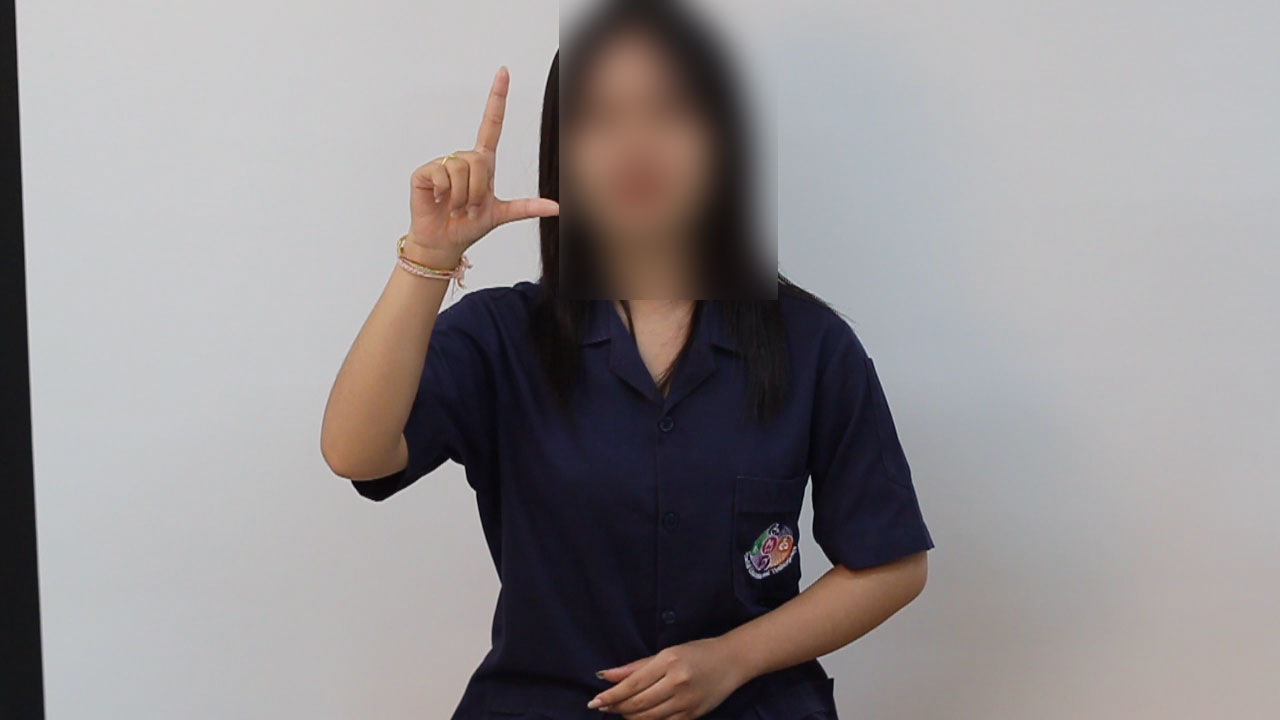lor: (388, 68, 617, 262)
